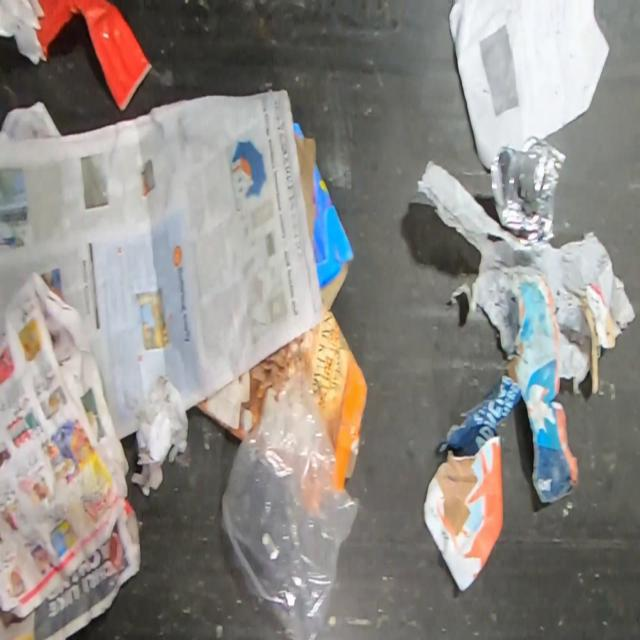cardboard: (193, 308, 369, 490), (293, 119, 356, 311)
metal: (490, 135, 568, 243)
rigid_plastic: (32, 0, 154, 111)
soft_plastic: (413, 159, 638, 396), (220, 373, 362, 640)
